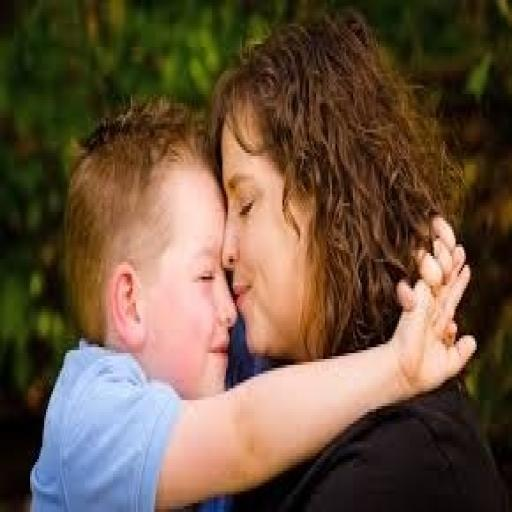hugging: (26, 94, 478, 509)
